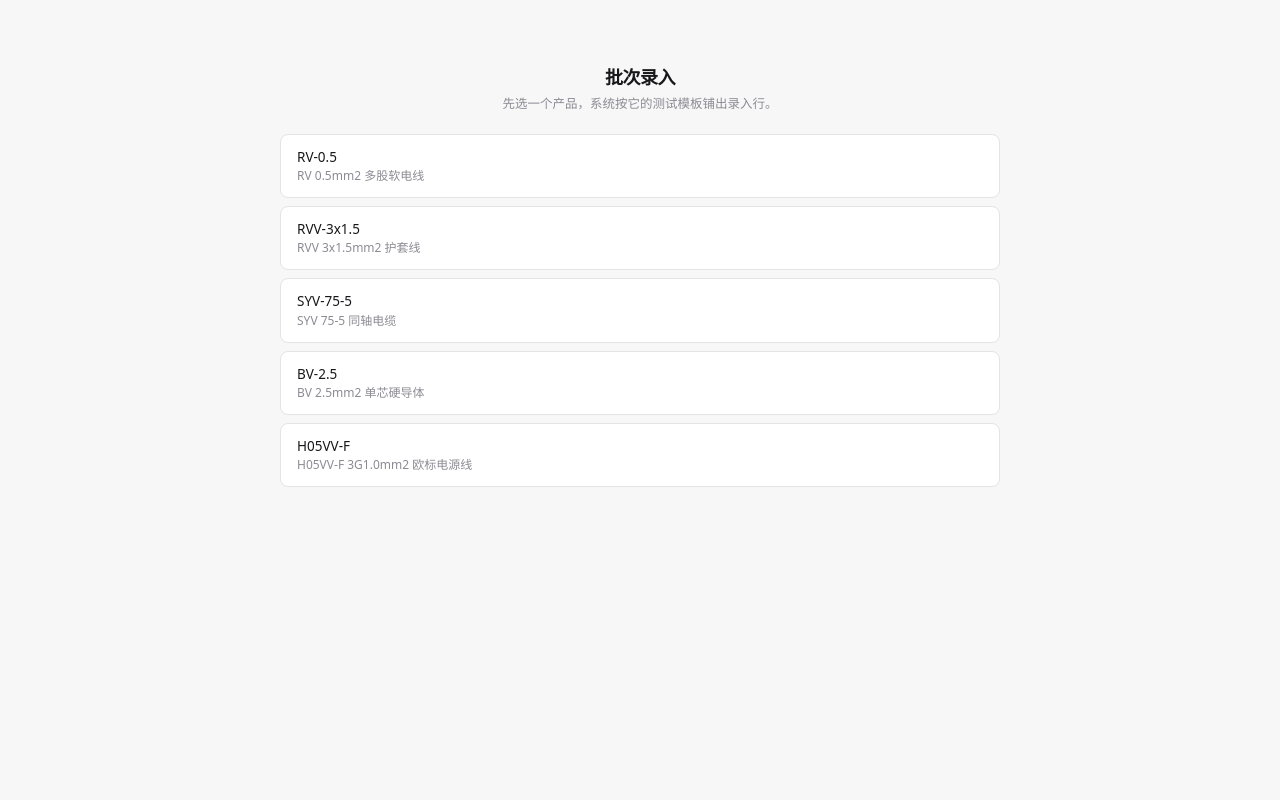
Test: BatchEntryPage › 没有产品时先让选产品，选完才铺出录入行
This screenshot has width=1280, height=800.
Expected: the text "先选一个产品，系统按它的测试模板铺出录入行。" is shown, top-left (502, 95), bottom-right (778, 112)
Click the text "RV 0.5mm2 多股软电线" at (361, 176), box top-left (297, 167), bottom-right (424, 184)
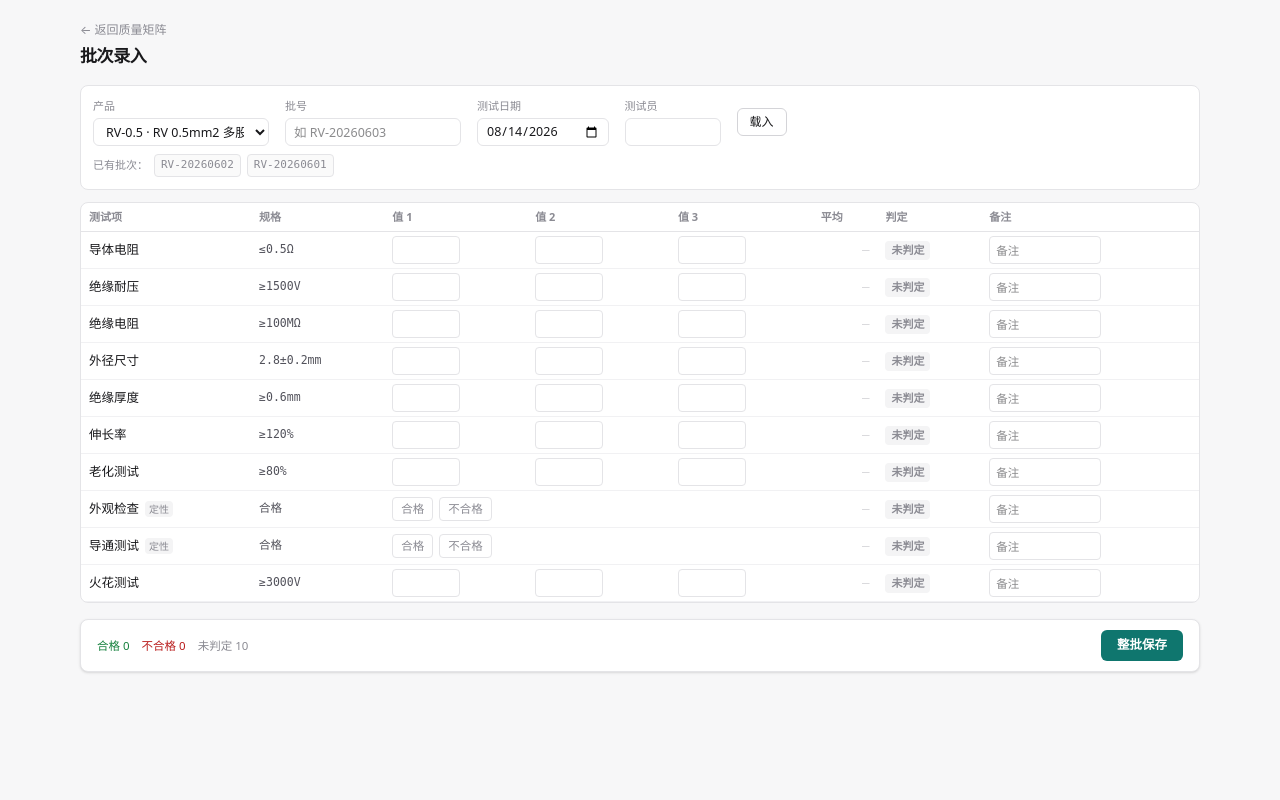
Now the text "导体电阻" is shown, box top-left (81, 232), bottom-right (251, 268)
